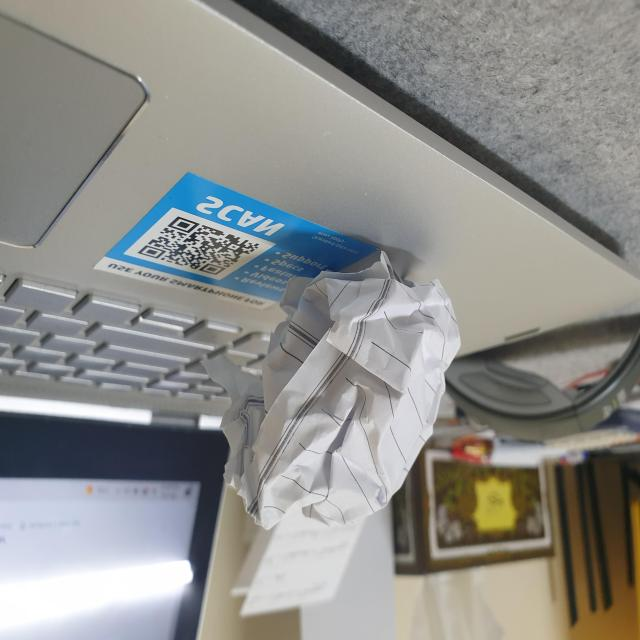kertas: (206, 240, 468, 538)
